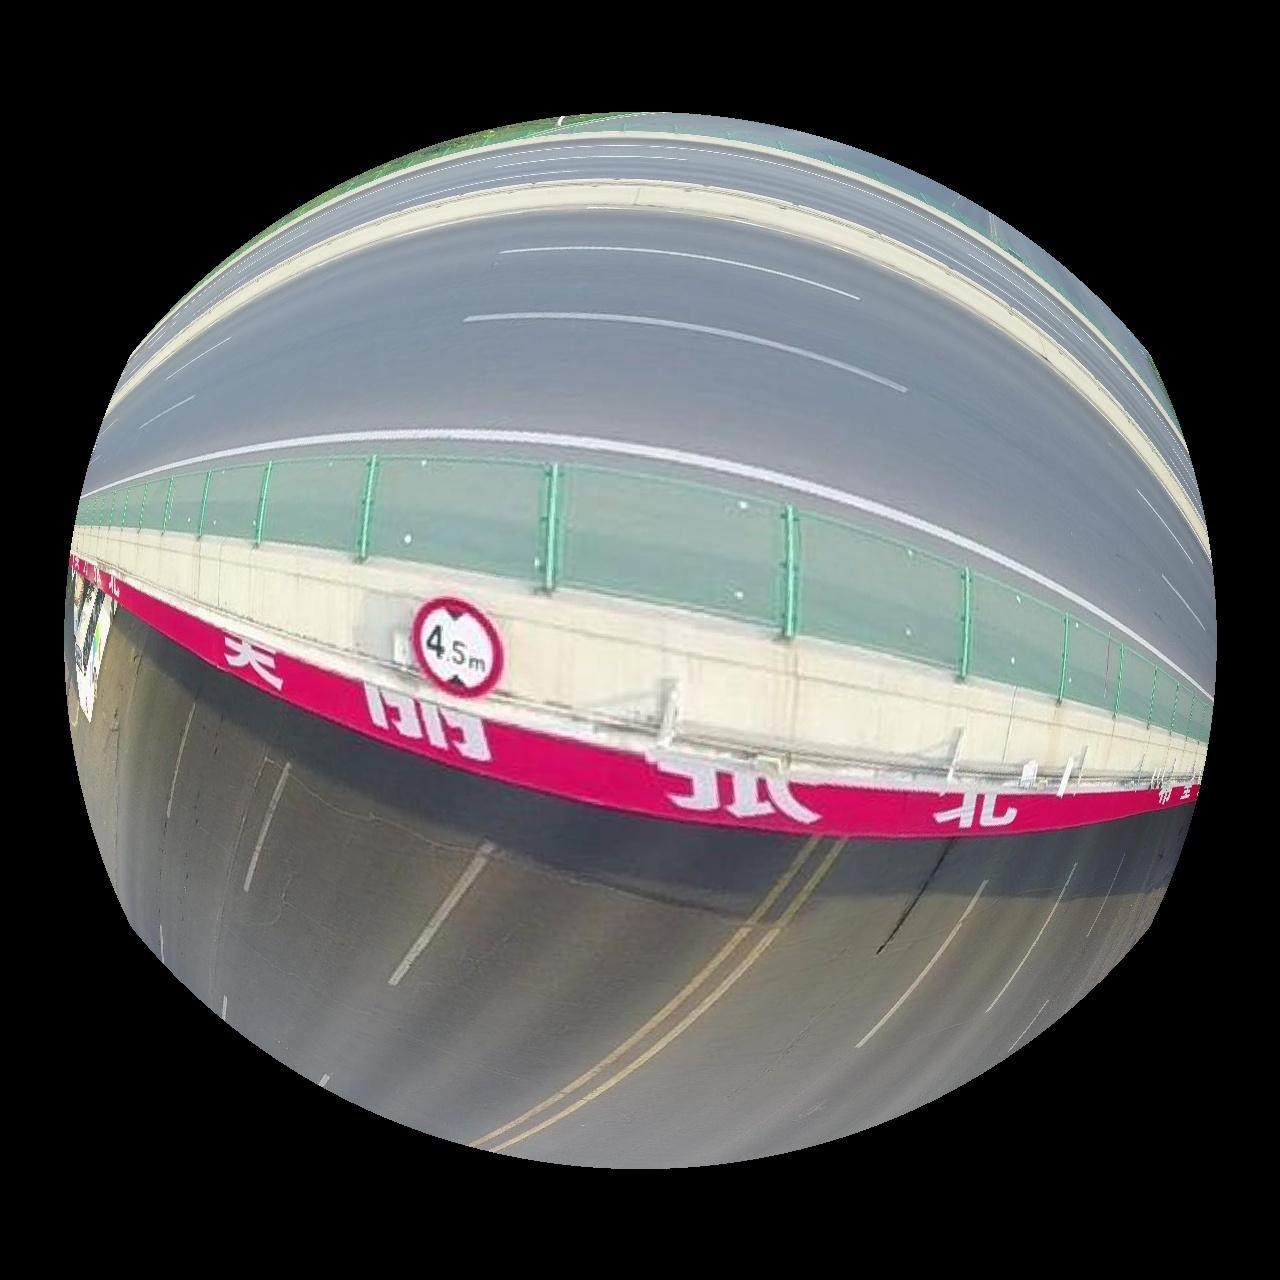cars: (72, 576, 113, 721)
